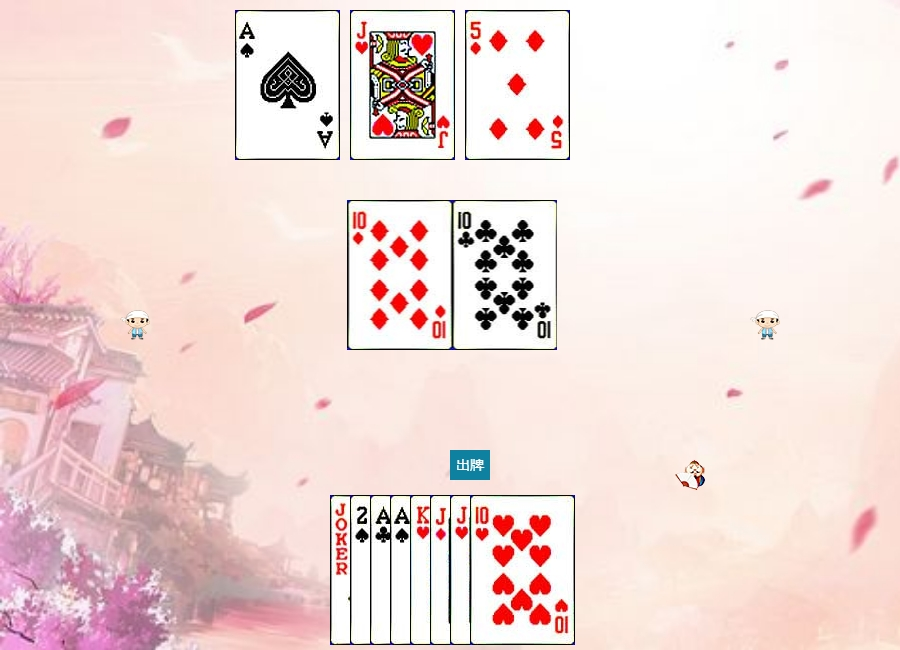10~1: (348, 200, 453, 350)
10~2: (453, 200, 558, 350)
10~3: (470, 495, 575, 645)
11~1: (430, 495, 535, 645)
11~3: (350, 10, 455, 160), (450, 495, 555, 645)
13~3: (410, 495, 515, 645)
14~2: (370, 495, 475, 645)
14~4: (235, 10, 340, 160), (390, 495, 495, 645)
15~4: (350, 495, 455, 645)
18~4: (330, 495, 435, 645)
5~1: (465, 10, 570, 160)
